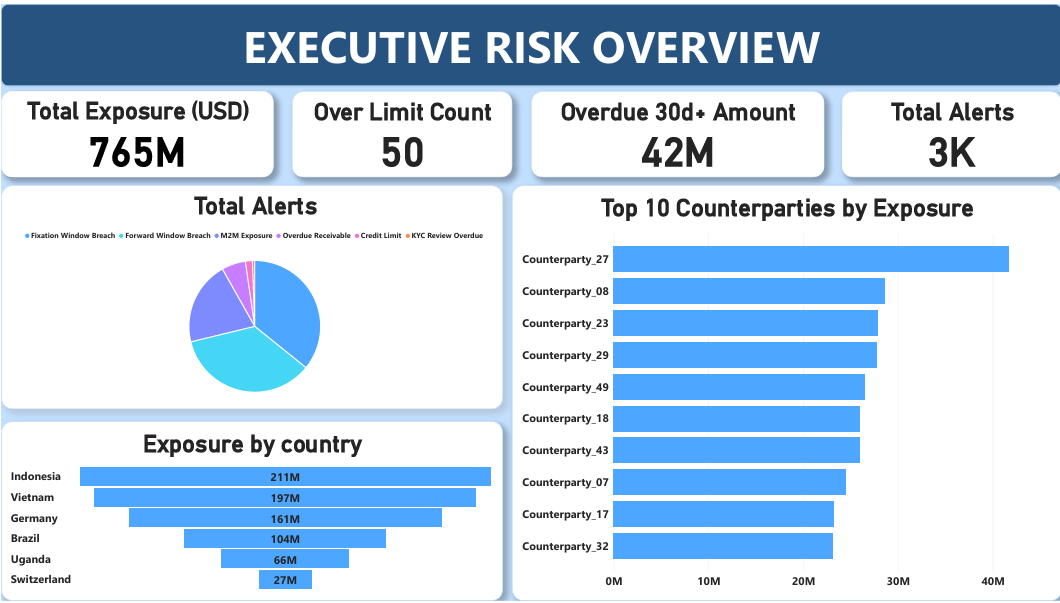

This screenshot's page, from the dashboard's own definition file:
{"tool":"powerbi","page":{"name":"Overview","canvas":[1920,1080],"ordinal":0},"visuals":[{"type":"textbox","box":[0,0,1920,147.5],"z":0},{"type":"cardVisual","title":"Total Exposure (USD)","fields":{"Data":["Alerts.Total Exposure"]},"box":[0,156.7,492.9,156.7],"z":1000},{"type":"cardVisual","title":"Overdue 30d+ Amount","fields":{"Data":["Alerts.Overdue 30d+ Amount"]},"box":[960,157.5,530,155],"z":2000},{"type":"cardVisual","title":"Total Alerts","fields":{"Data":["Alerts.Total Alerts"]},"box":[1522.5,157.5,397.5,155],"z":3000},{"type":"cardVisual","title":"Over Limit Count","fields":{"Data":["Alerts.Over Limit Count"]},"box":[527.5,157.5,397.5,155],"z":4000},{"type":"pieChart","title":"Total Alerts","fields":{"Category":["Alerts.alert_type"],"Y":["Alerts.Total Alerts"]},"box":[0,327.5,907.5,405],"z":5000},{"type":"funnel","title":"Exposure by country","fields":{"Category":["limit_utilization.country"],"Y":["Alerts.Total Exposure"]},"box":[0,755,907.5,325],"z":6000},{"type":"clusteredBarChart","title":"Top 10 Counterparties by Exposure","fields":{"Category":["limit_utilization.name"],"Y":["Sum(limit_utilization.total_exposure)"]},"box":[925,327.5,995,752.5],"z":7001}]}

Visuals, with their boxes in screenshot pixels (x1, y1, x2, y2), scaled from the page's 1920x1080 canvas onto the 1060x603 screenshot:
textbox: [x1=0, y1=0, x2=1059, y2=82]
"Total Exposure (USD)" cardVisual: [x1=0, y1=87, x2=272, y2=175]
"Overdue 30d+ Amount" cardVisual: [x1=530, y1=88, x2=823, y2=174]
"Total Alerts" cardVisual: [x1=841, y1=88, x2=1059, y2=174]
"Over Limit Count" cardVisual: [x1=291, y1=88, x2=511, y2=174]
"Total Alerts" pieChart: [x1=0, y1=183, x2=501, y2=409]
"Exposure by country" funnel: [x1=0, y1=422, x2=501, y2=602]
"Top 10 Counterparties by Exposure" clusteredBarChart: [x1=511, y1=183, x2=1059, y2=602]
